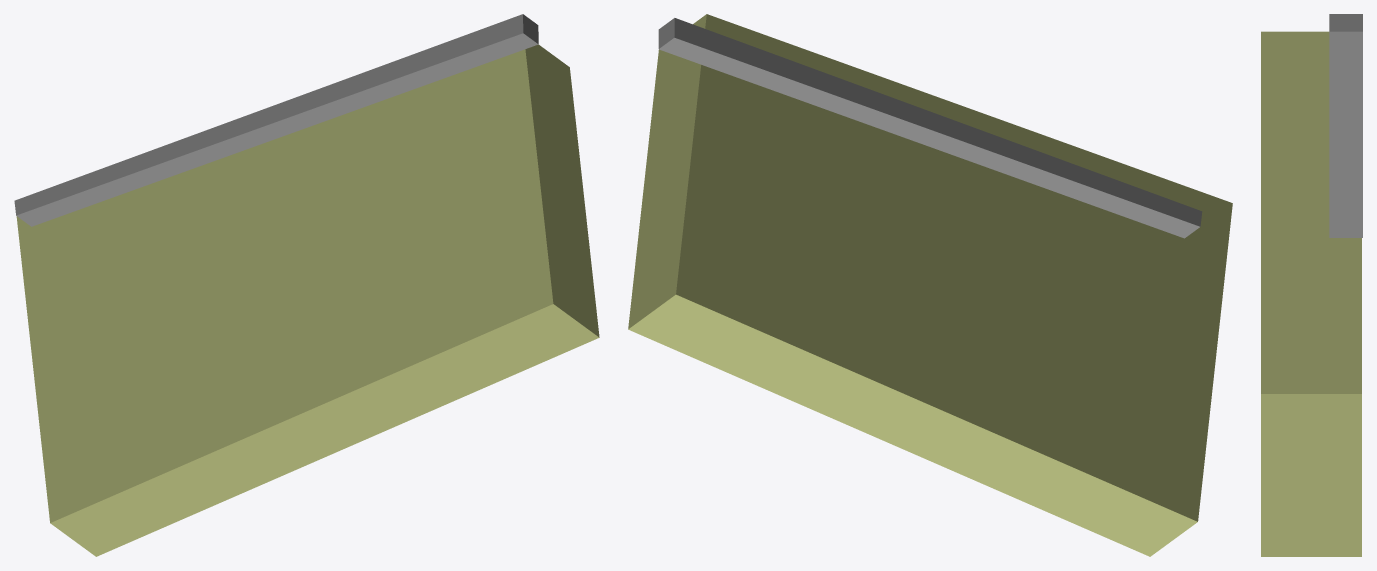
The picture shows the model from 3 angles, left to right: view 1: azimuth 30°, elevation 25°; view 2: azimuth 150°, elevation 25°; view 3: azimuth 270°, elevation 25°; orthographic projection. The views are drawn at different scales.
Visible parts, largest first — view 1: 0_2_0_1_2_2_2; view 2: 0_2_0_1_2_2_2; view 3: 0_2_0_1_2_2_2.
Part boxes in pixels (x1=…): 0_2_0_1_2_2_2: x1=14, y1=14, x2=599, y2=556; 0_2_0_1_2_2_2: x1=628, y1=14, x2=1232, y2=556; 0_2_0_1_2_2_2: x1=1261, y1=14, x2=1362, y2=556.
Bounding box in the file's own units: 60.66 × 42.34 × 9.08.
